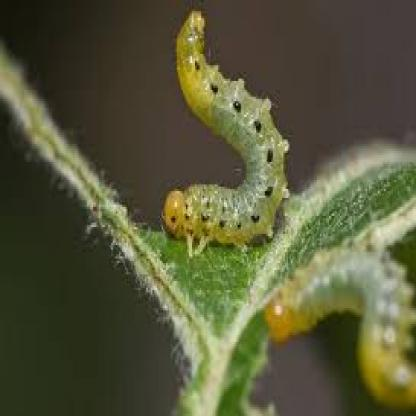sawfly: (160, 9, 286, 266), (265, 241, 416, 416)
